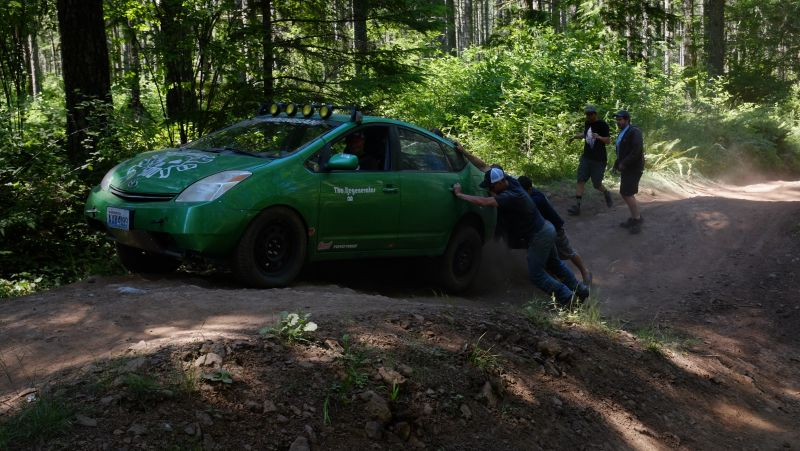Toyota Prius: (80, 108, 502, 297)
